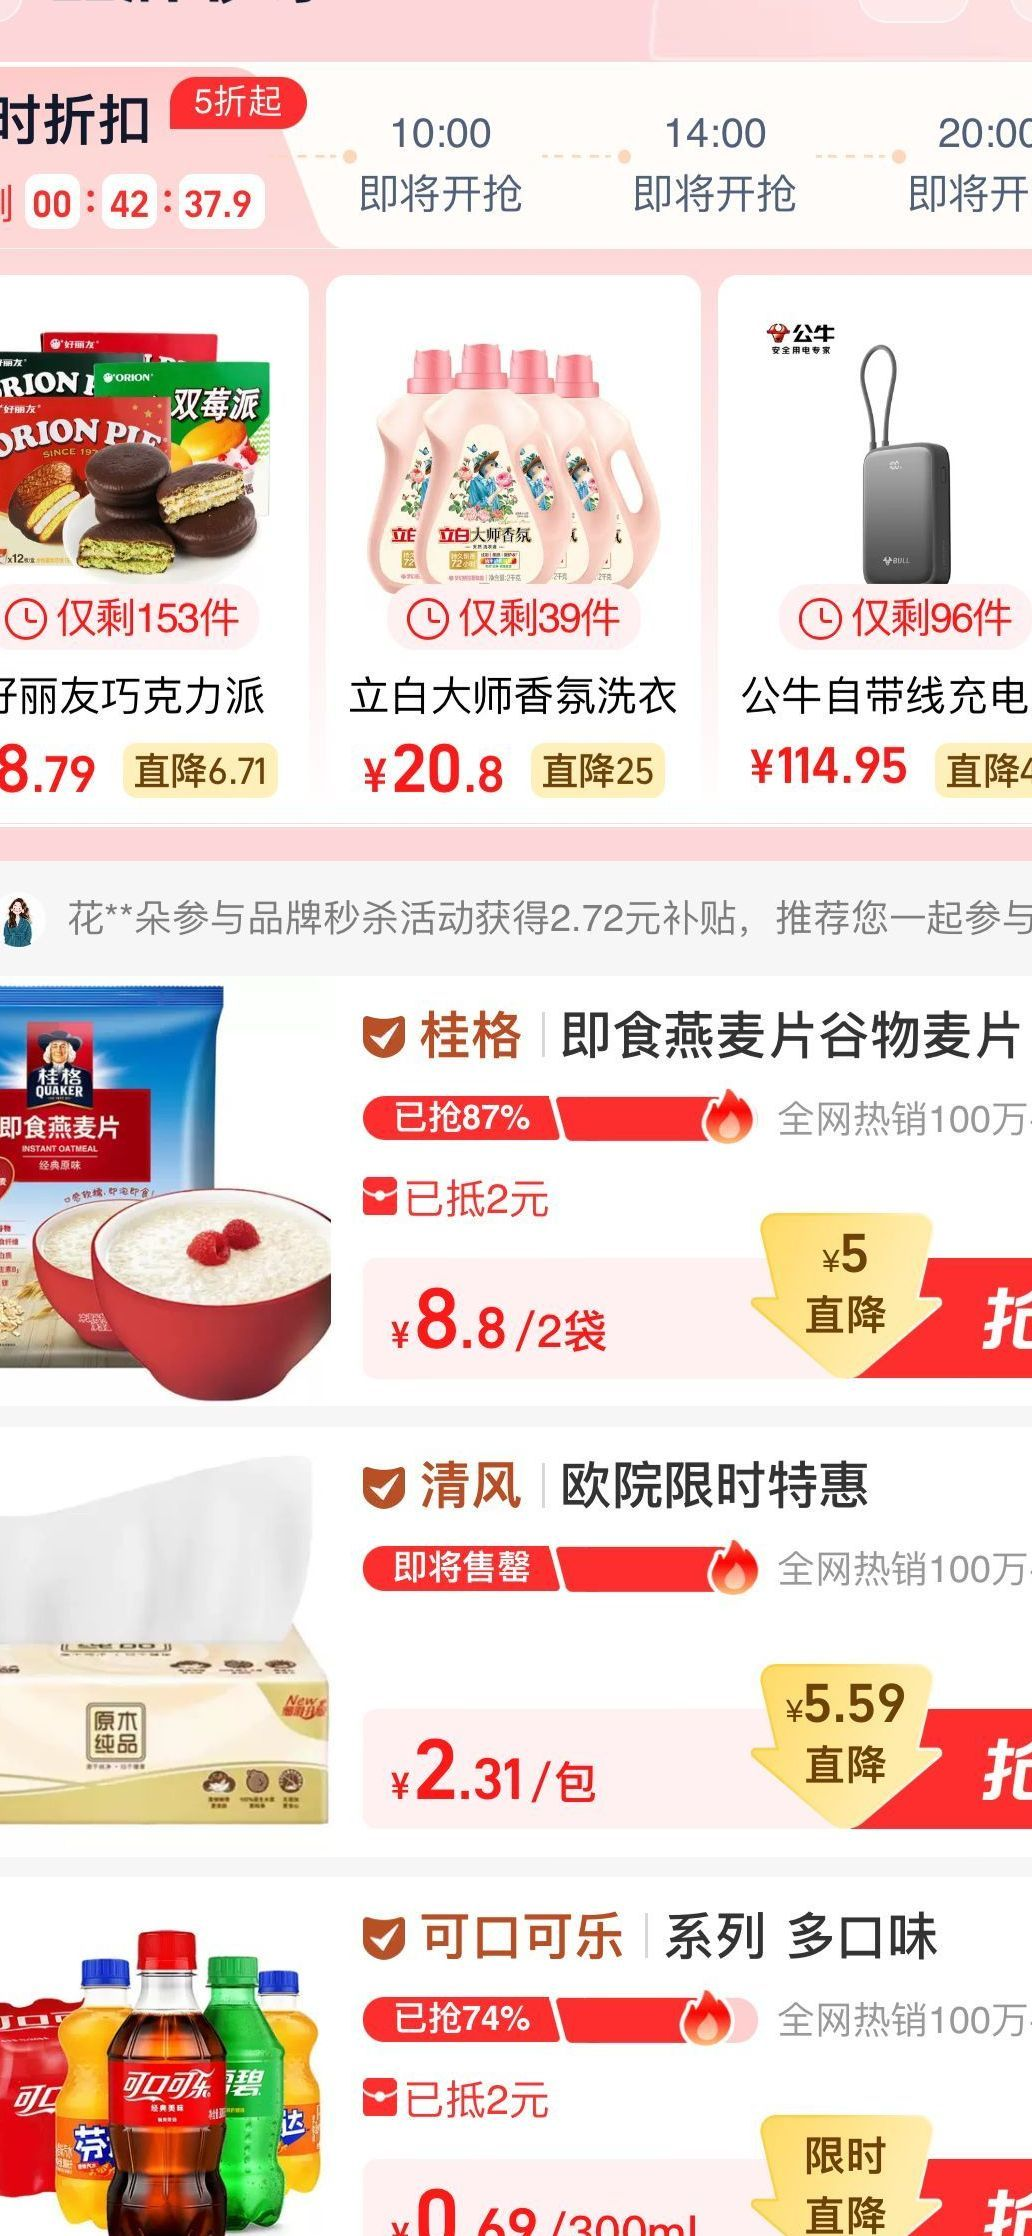item: (7, 1423, 1032, 1852), (7, 963, 1032, 1390), (4, 1864, 1031, 2235)
seckill: (7, 264, 1029, 826)
